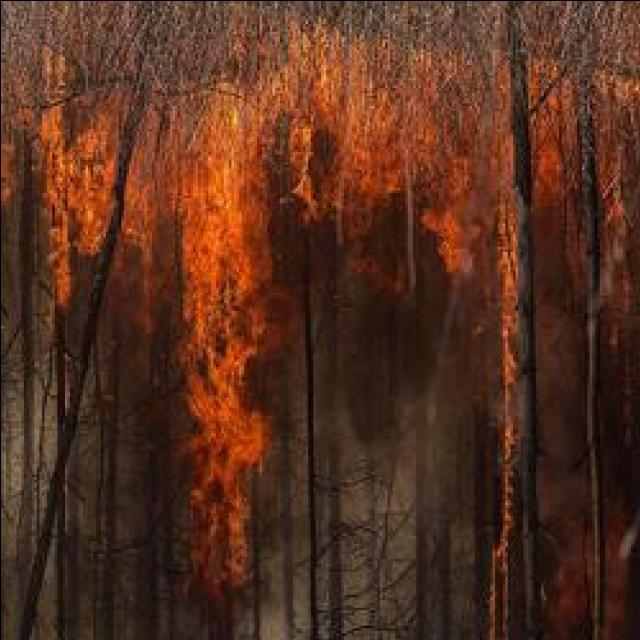fire: (177, 114, 269, 578), (40, 117, 114, 298)
